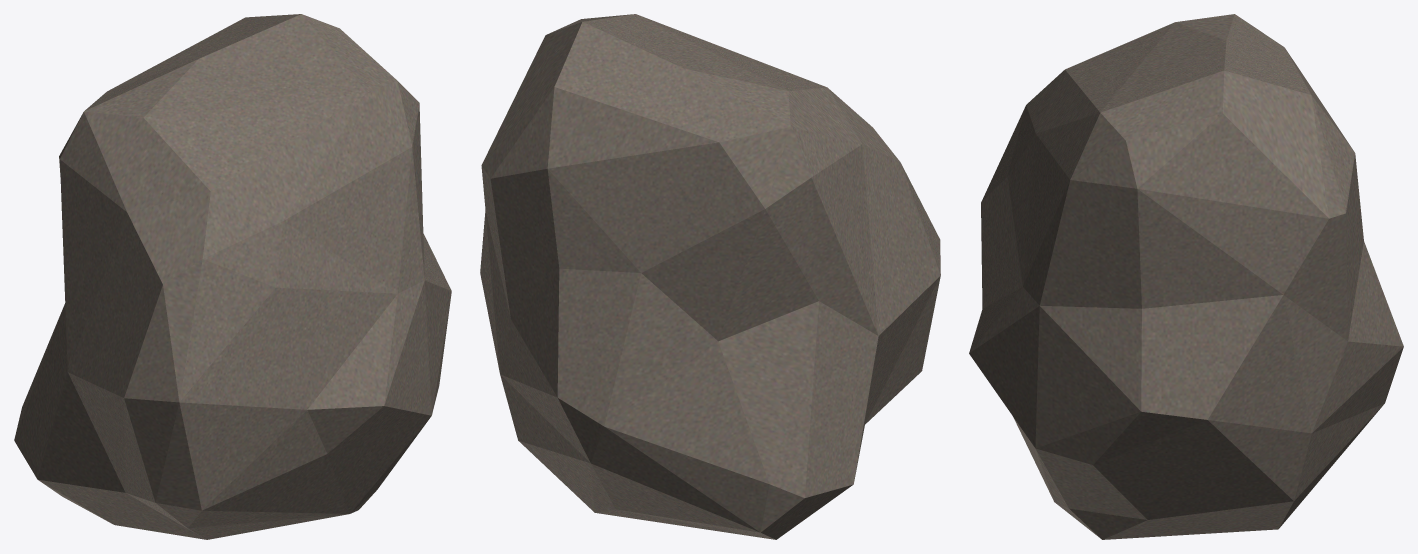
The model's file is rock1.004.obj.
3 views of the same model, side by side, from view 1: azimuth 30°, elevation 25°; view 2: azimuth 150°, elevation 25°; view 3: azimuth 270°, elevation 25° (orthographic). The views are drawn at different scales.
Parts seen in each view (by area): view 1: rock1.004_Cube.026; view 2: rock1.004_Cube.026; view 3: rock1.004_Cube.026.
Part boxes in pixels (x1,y1,x2,y2): rock1.004_Cube.026: [14, 14, 451, 539]; rock1.004_Cube.026: [480, 14, 940, 539]; rock1.004_Cube.026: [969, 14, 1403, 539].
Bounding box in the file's own units: 312 × 363 × 299.
